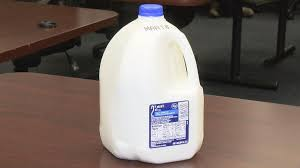milk: (99, 3, 207, 163)
